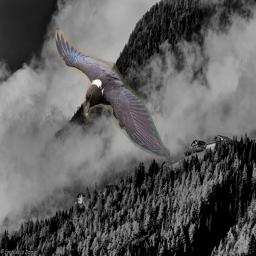Crow: (55, 30, 170, 160)
